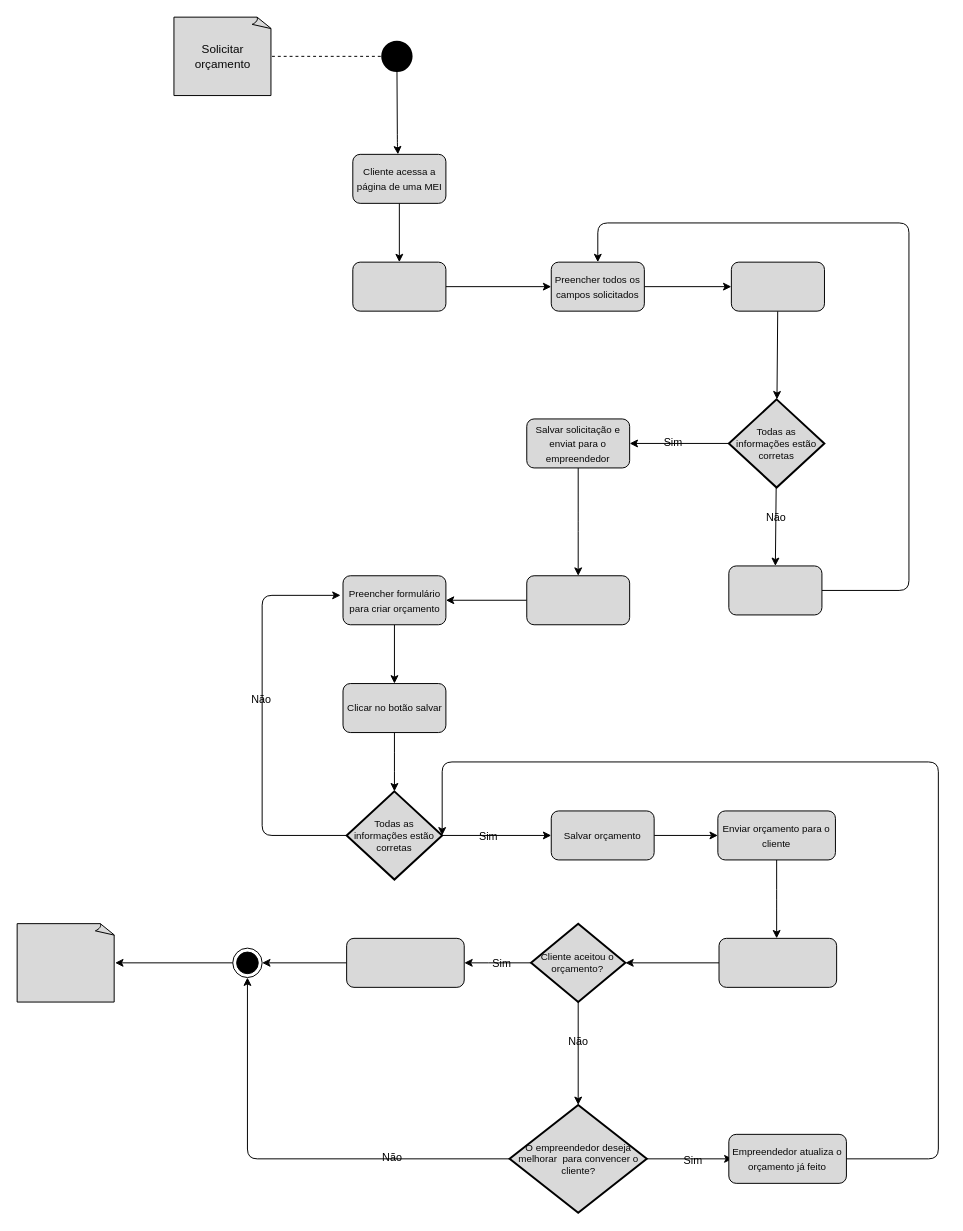
The diagram is 963 pixels wide and 1231 high, and some of its shapes have lost their labels. The centre of each missing label's shape, as x and y in pixels:
"Clicar no botão Enviar Solicitação" belongs at point (777, 286).
"Cliente clica em solicitar orçamento" belongs at point (399, 286).
"Cliente visualiza e responde orçamento" belongs at point (777, 962).
"Empreendedor recebe a proposta" belongs at point (578, 600).
"Exibir mensagem de erro" belongs at point (775, 590).
"Orçamento finalizado" belongs at point (65, 962).
"Prossegue a negociação entre o empreendedor e o cliente" belongs at point (405, 962).
